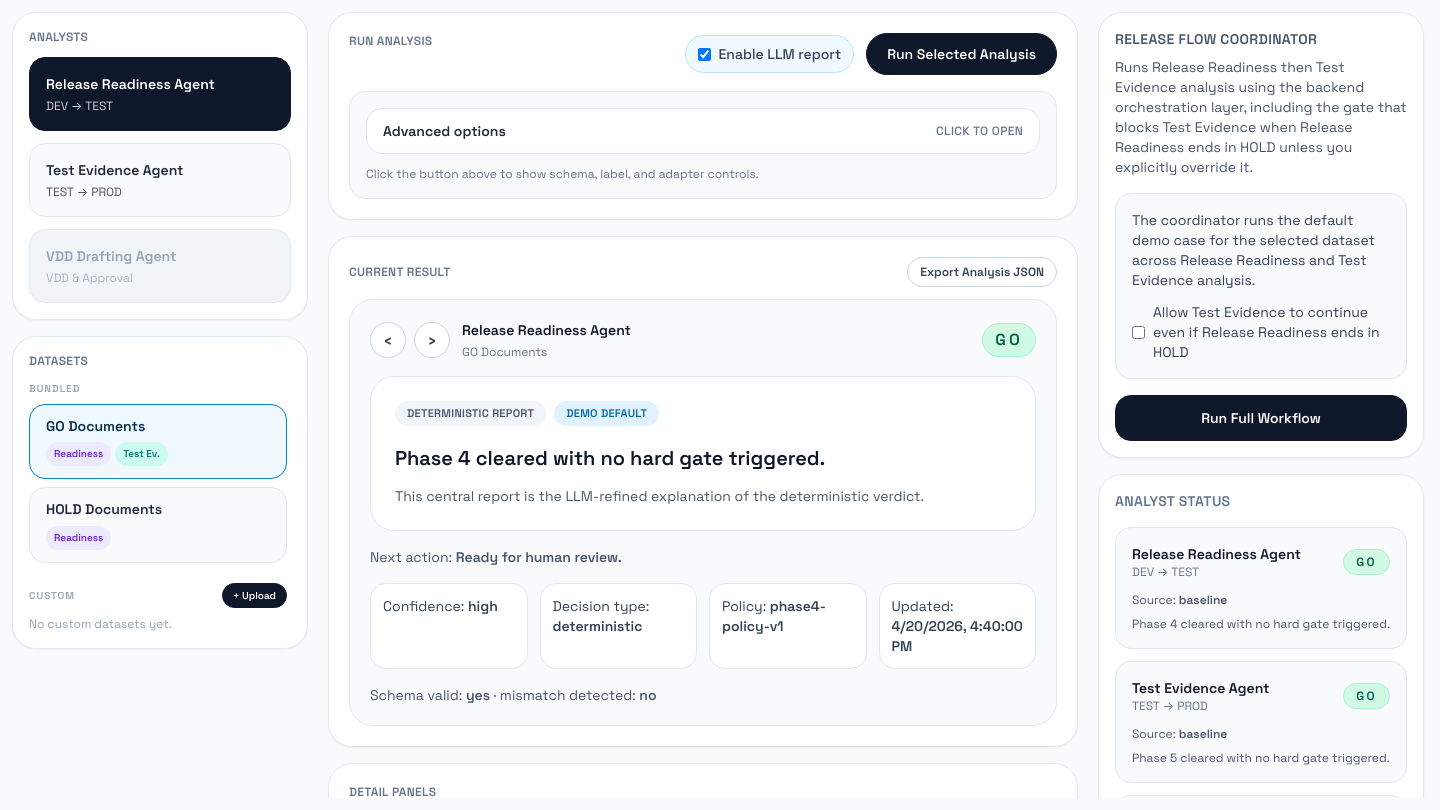
Test: Release Dashboard › lets you switch current result with arrow controls
The image size is (1440, 810).
Expected: the text with test id "current-result-analyst-name" reads "Release Readiness Agent", x1=462 y1=321 x2=631 y2=339
Click the button named "show next analyst result" at (432, 340), box x1=414 y1=322 x2=450 y2=358
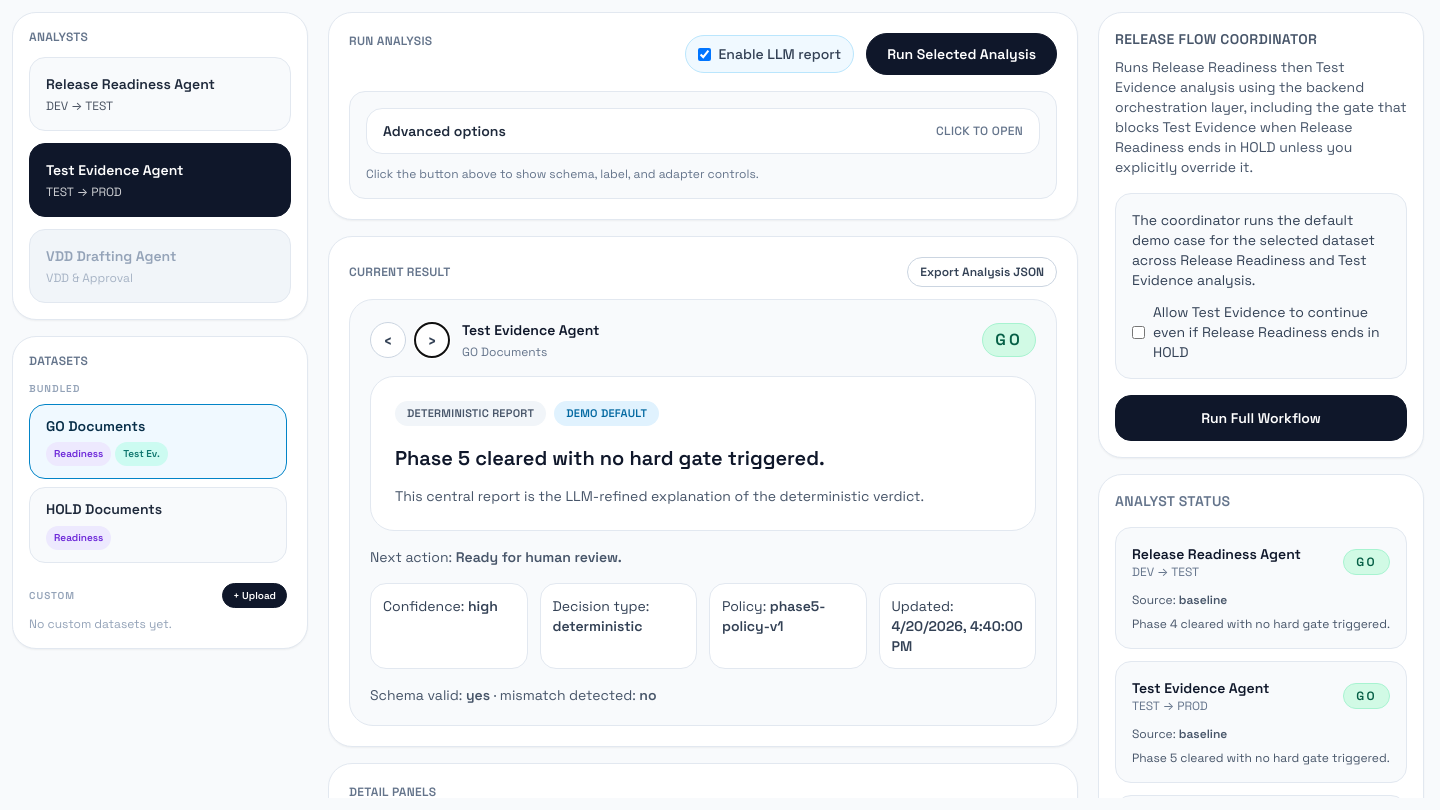
Now the text with test id "current-result-analyst-name" reads "Test Evidence Agent", box x1=462 y1=321 x2=600 y2=339
